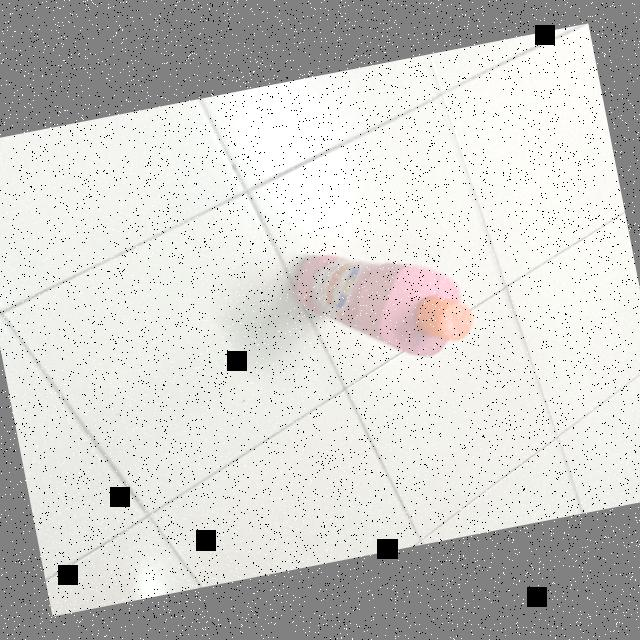chemical_plastic_bottle: (289, 220, 482, 380)
